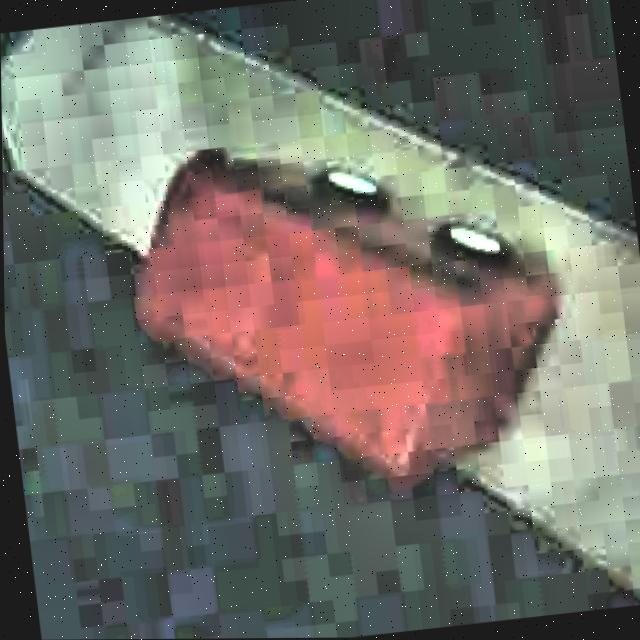bus: (113, 107, 582, 505)
